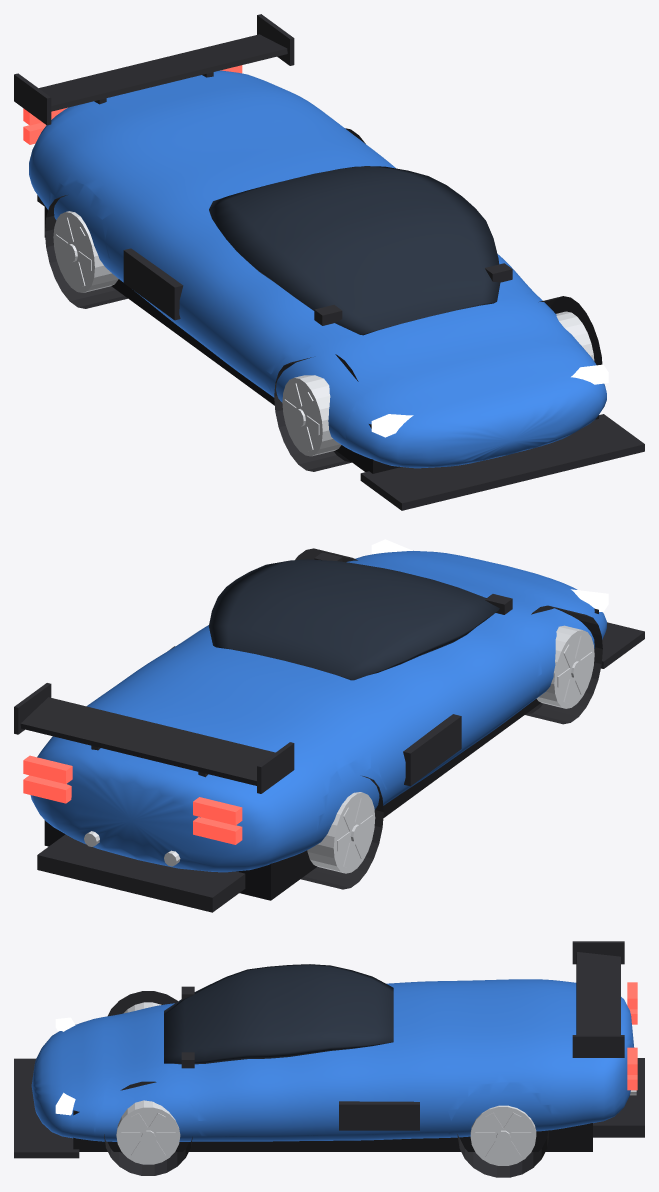
3 renders of one model, top to bottom at view 1: azimuth 30°, elevation 25°; view 2: azimuth 150°, elevation 25°; view 3: azimuth 270°, elevation 25°, orthographic. The views are drawn at different scales.
Parts seen in each view (by area): view 1: Body, Glass, Splitter, Wing, Wheel_FL, Wheel_RL, Intake, Underbody, Wheel_FR, WingEnd, WingEnd.001; view 2: Body, Glass, Wing, Diffuser, Wheel_RL, Wheel_FL, Underbody, Intake, Splitter, WingEnd, Taillight, Taillight.002 (+3 smaller); view 3: Body, Glass, Underbody, Wheel_FR, Wheel_RR, Wing, Splitter, Intake.001, Diffuser, WingEnd.001, Wheel_FL, WingEnd.
Part boxes in pixels (x1,y1,x2,y2): Body: [29, 70, 606, 468]; Glass: [209, 166, 500, 335]; Splitter: [360, 414, 644, 510]; Wing: [39, 34, 287, 111]; Wheel_FL: [274, 354, 358, 471]; Wheel_RL: [45, 195, 127, 308]; Intake: [123, 248, 183, 320]; Underbody: [44, 206, 598, 473]; Wheel_FR: [539, 296, 602, 365]; WingEnd: [14, 73, 51, 125]; WingEnd.001: [257, 14, 294, 65]; Body: [30, 550, 606, 872]; Glass: [209, 559, 499, 680]; Wing: [20, 697, 275, 785]; Diffuser: [37, 834, 245, 912]; Wheel_RL: [300, 776, 383, 889]; Wheel_FL: [525, 605, 602, 724]; Underbody: [44, 608, 598, 900]; Intake: [403, 714, 461, 786]; Splitter: [601, 622, 644, 668]; WingEnd: [257, 742, 294, 793]; Taillight: [193, 797, 242, 825]; Taillight.002: [23, 755, 72, 783]; Body: [31, 979, 634, 1141]; Glass: [164, 964, 393, 1064]; Underbody: [73, 1110, 592, 1151]; Wheel_FR: [104, 1081, 192, 1175]; Wheel_RR: [457, 1105, 548, 1177]; Wing: [576, 952, 620, 1034]; Splitter: [14, 1058, 79, 1158]; Intake.001: [339, 1101, 419, 1130]; Diffuser: [593, 1058, 644, 1137]; WingEnd.001: [572, 1035, 624, 1057]; Wheel_FL: [108, 991, 177, 1016]; WingEnd: [572, 941, 624, 964].
Size of the model in its own units: 2.01 by 1.14 by 4.83.
